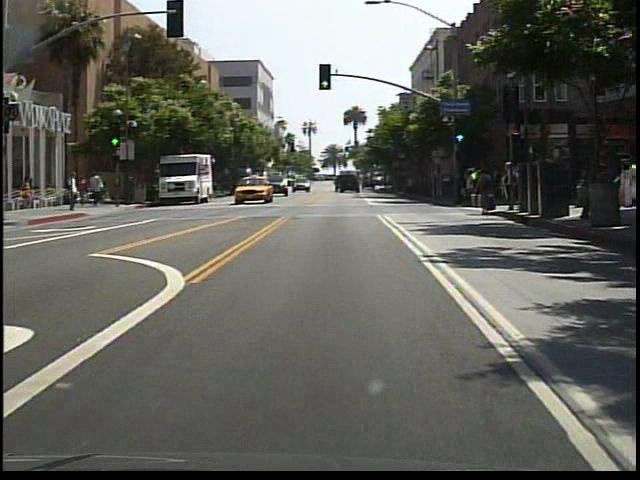person: (472, 163, 495, 219), (66, 169, 82, 214), (21, 175, 38, 213), (90, 168, 106, 206), (78, 174, 90, 206)
